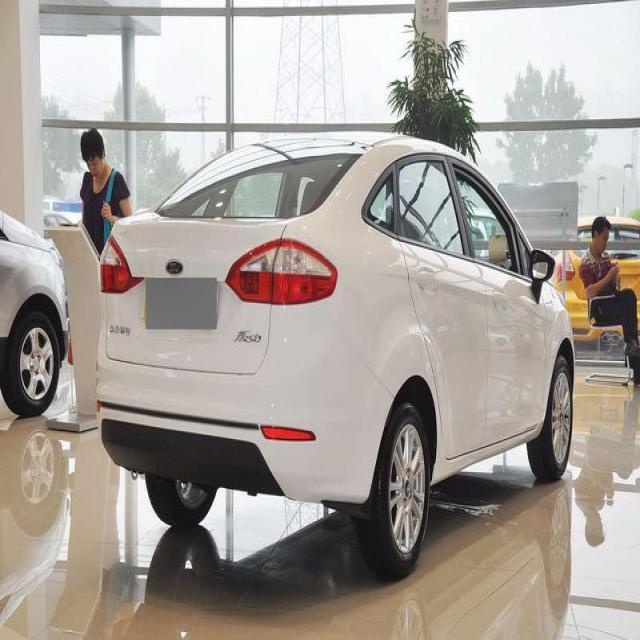back_glass: (152, 140, 369, 221)
back_left_side_light: (98, 230, 144, 296)
back_right_side_light: (226, 234, 340, 307)
door: (390, 160, 452, 461)
front_right_side_door: (443, 147, 547, 452)
front_right_side_mirror: (528, 242, 556, 300)
rear_bumper: (92, 340, 394, 506)
wheel: (364, 398, 428, 575), (526, 358, 575, 480), (146, 468, 222, 526)
